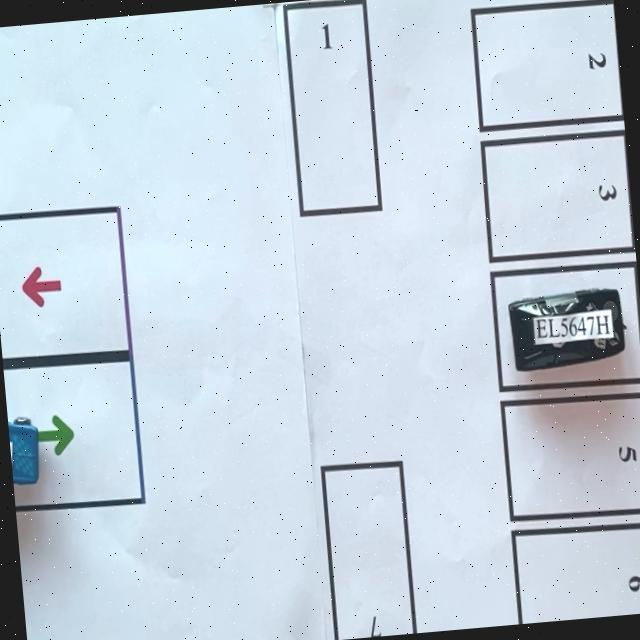car: (502, 283, 630, 377), (7, 405, 42, 494)
